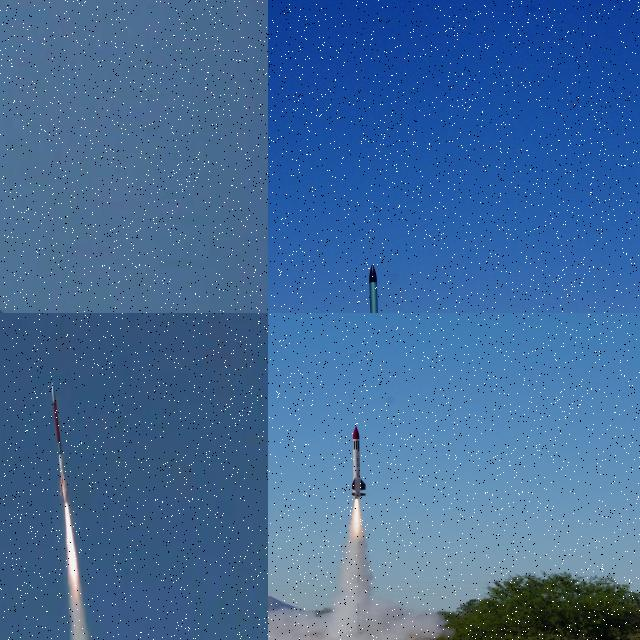Rocket: (51, 382, 69, 506), (350, 426, 367, 500), (367, 263, 383, 313), (0, 292, 22, 313)
